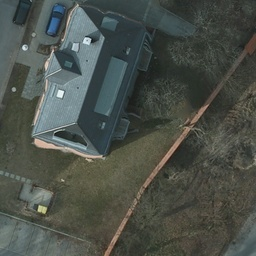car: (47, 6, 63, 35), (14, 0, 28, 26)
